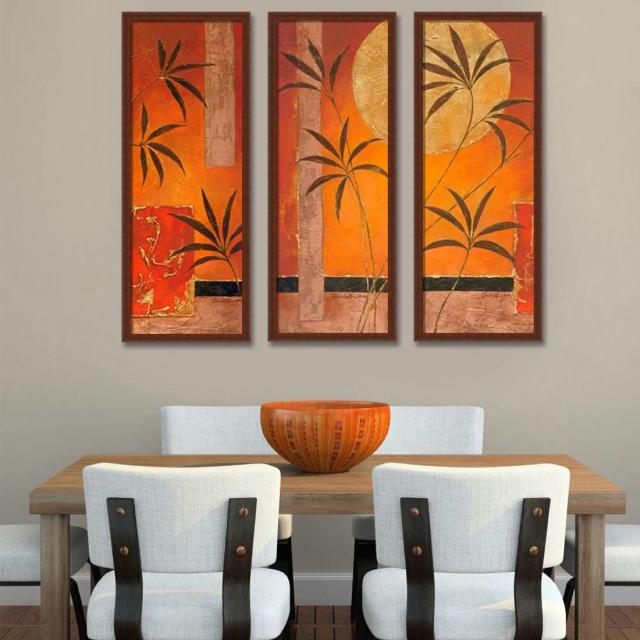painting: (122, 10, 252, 341), (266, 10, 396, 341), (416, 10, 546, 341)
